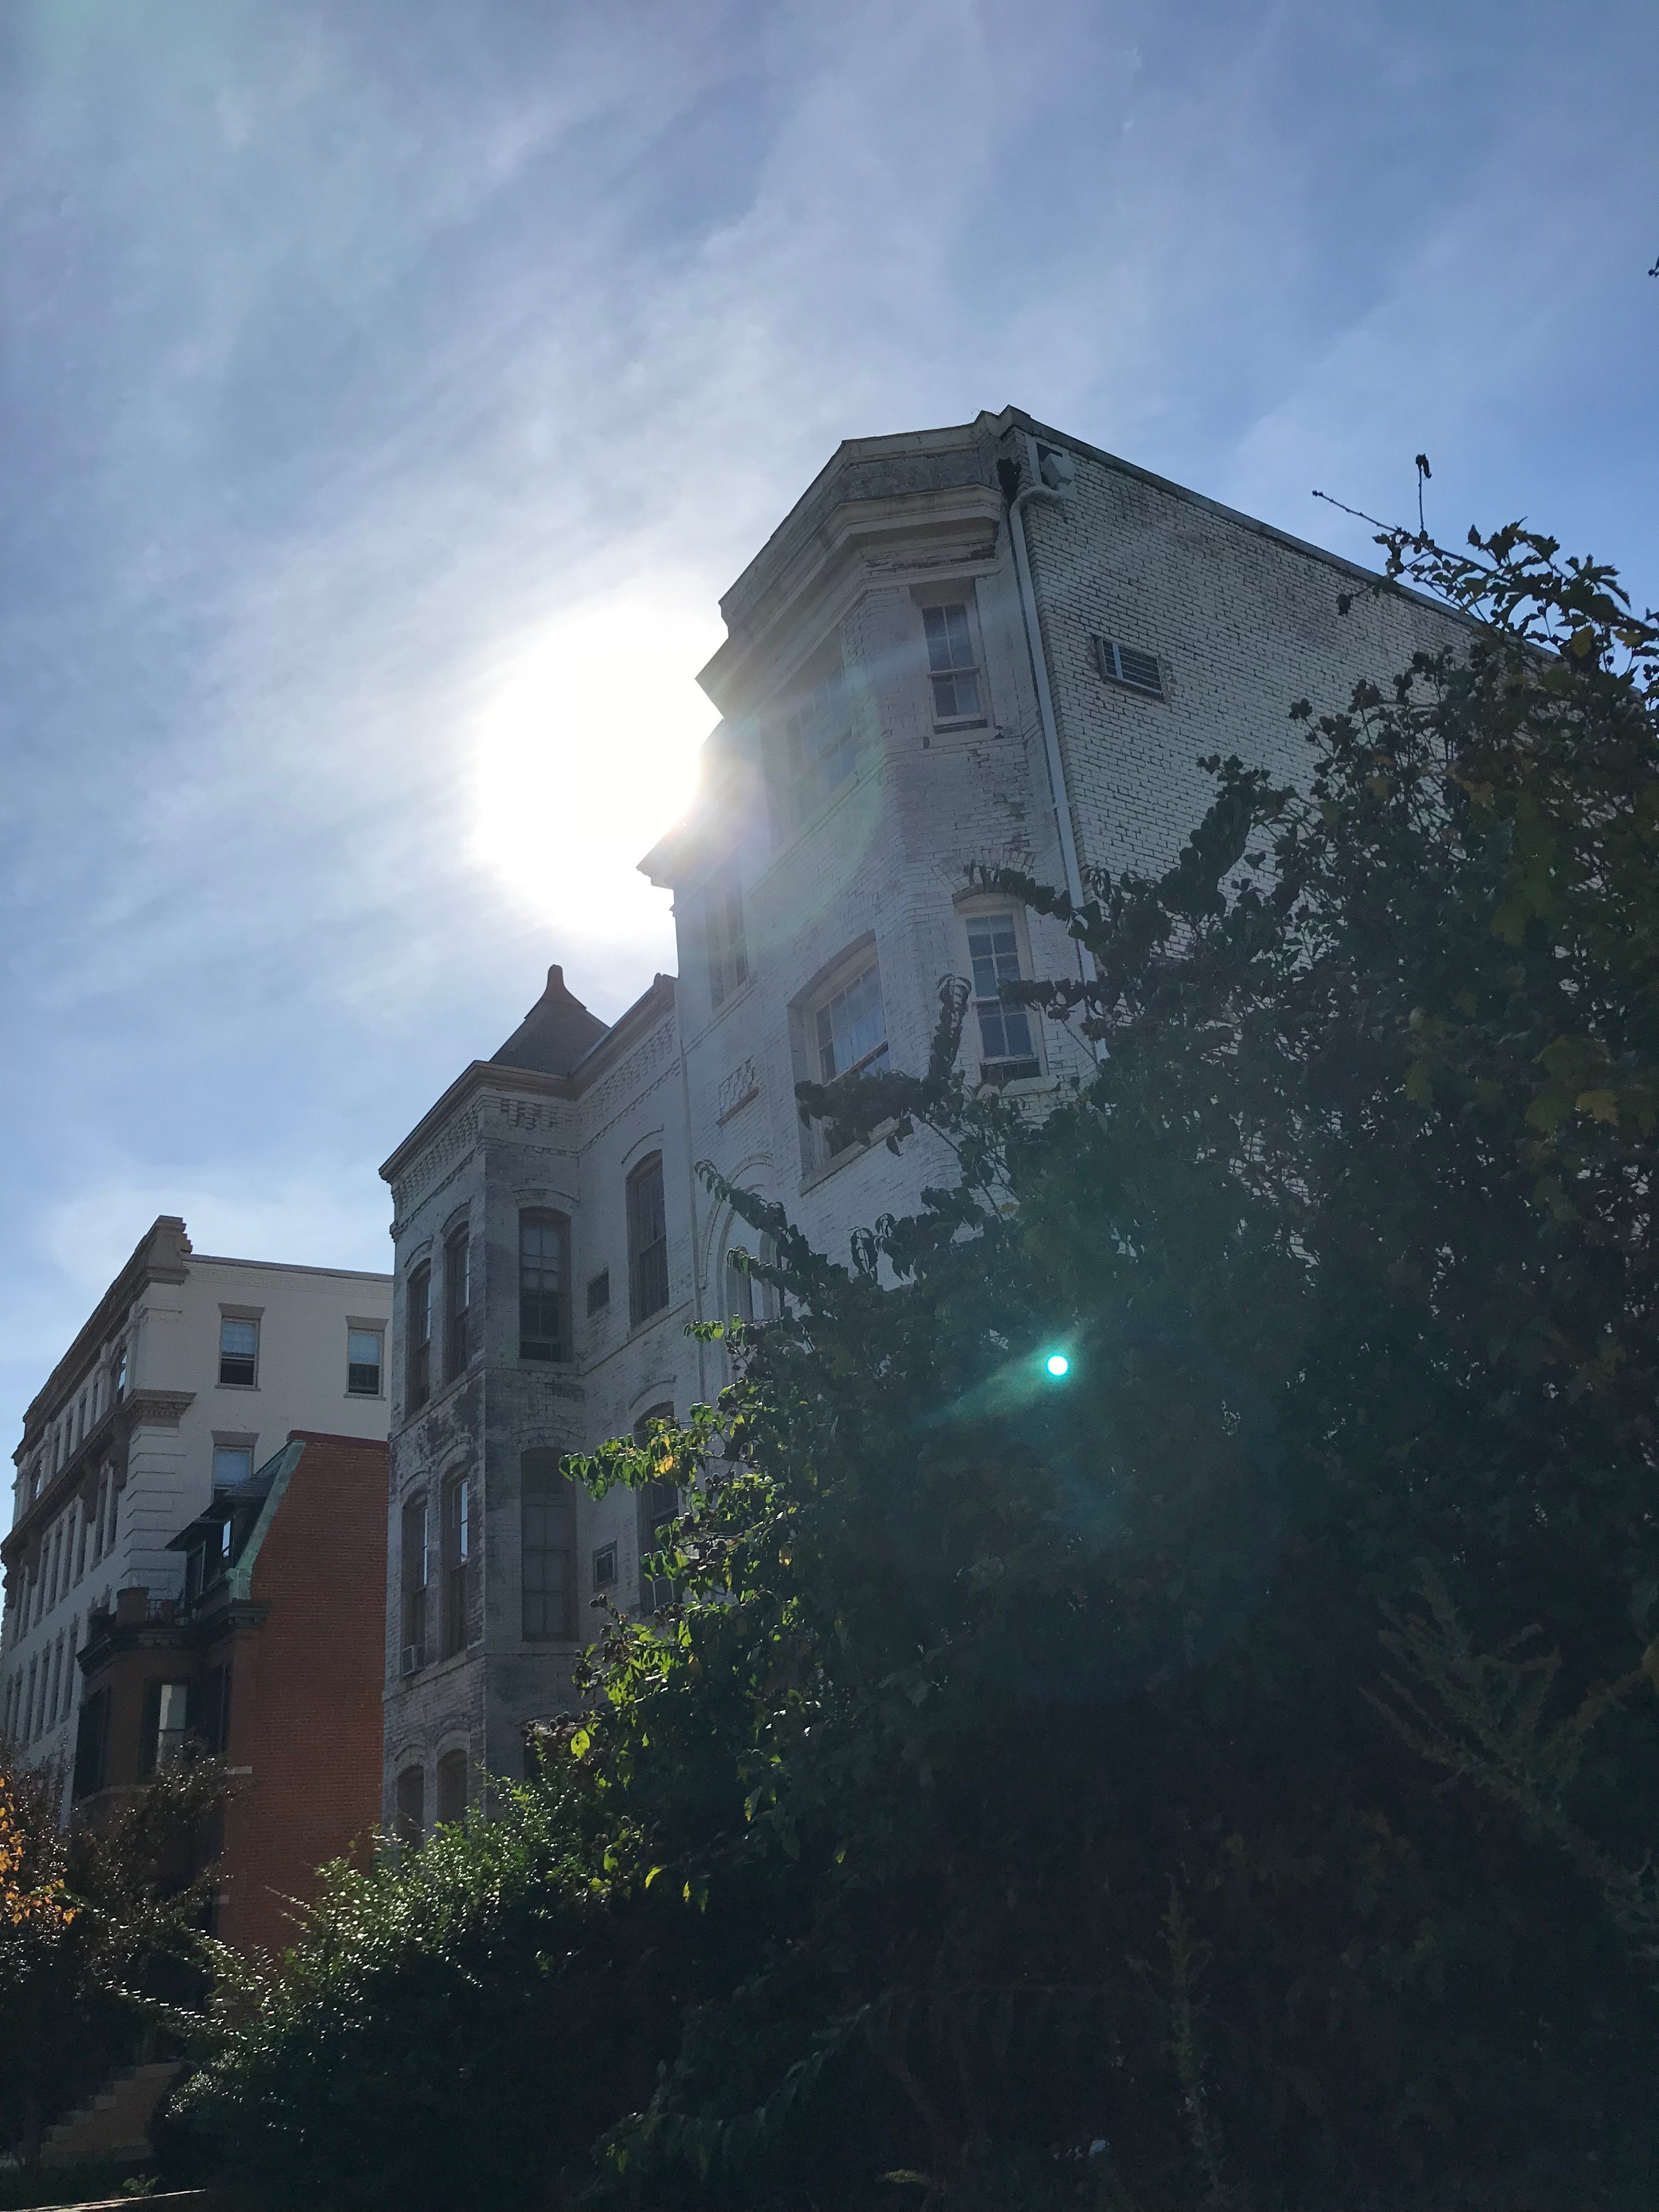flare: (1042, 1352, 1073, 1379)
